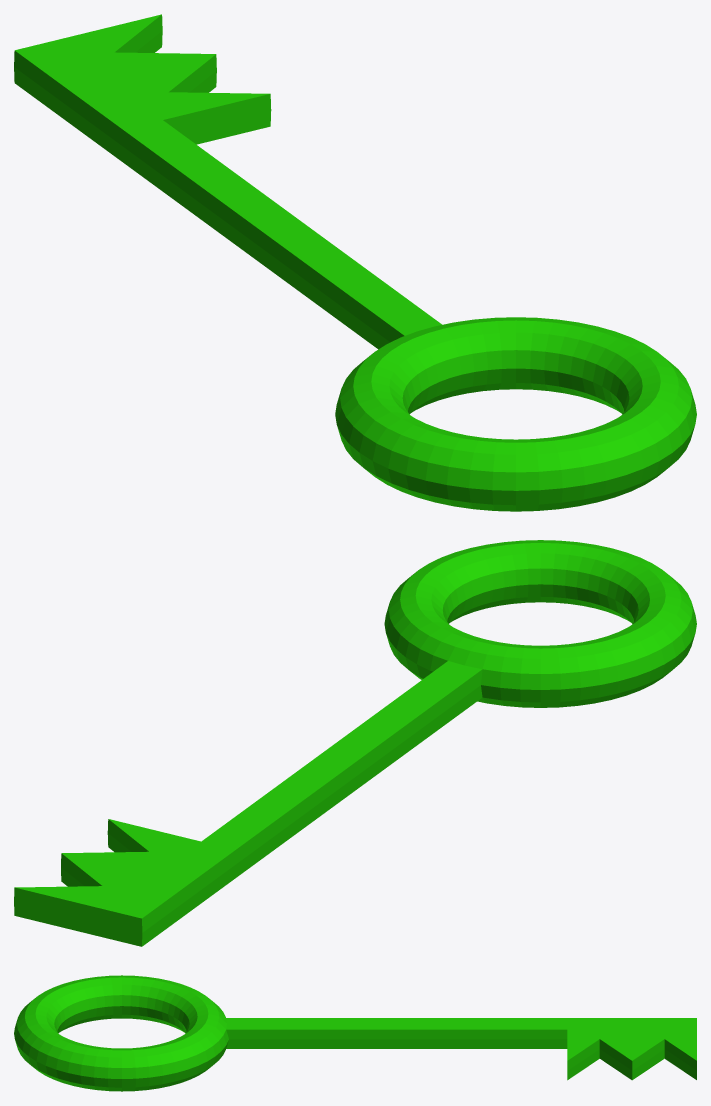
File: Greenkey.fbx
3 renders of one model, top to bottom at view 1: azimuth 30°, elevation 25°; view 2: azimuth 150°, elevation 25°; view 3: azimuth 270°, elevation 25°, orthographic. The views are drawn at different scales.
Visible parts, largest first — view 1: Torus; view 2: Torus; view 3: Torus.
Boxes of the visible parts, bbox=[...] form: Torus: bbox=[14, 14, 696, 511]; Torus: bbox=[14, 540, 696, 946]; Torus: bbox=[14, 975, 696, 1091].
Size of the model in its own units: 250 by 50 by 791.
